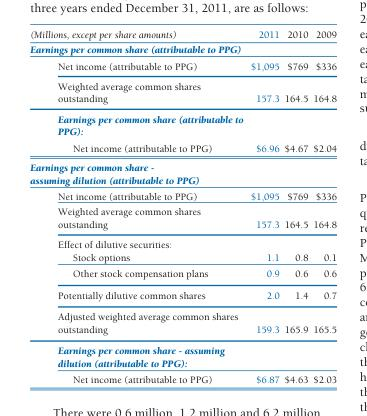table: (29, 28, 336, 384)
table column: (29, 28, 243, 384), (243, 28, 281, 384), (281, 28, 309, 384), (309, 28, 336, 384)
table column header: (29, 28, 336, 41)
table projected row header: (29, 339, 336, 371), (29, 108, 336, 139), (29, 157, 336, 188), (29, 41, 336, 57), (29, 234, 336, 250)
table row: (29, 305, 336, 339), (29, 75, 336, 108), (29, 339, 336, 371), (29, 108, 336, 139), (29, 157, 336, 188), (29, 203, 336, 234), (29, 284, 336, 305), (29, 265, 336, 284), (29, 57, 336, 75), (29, 139, 336, 157), (29, 41, 336, 57), (29, 234, 336, 250), (29, 188, 336, 203), (29, 250, 336, 265), (29, 28, 336, 41), (29, 371, 336, 384)
